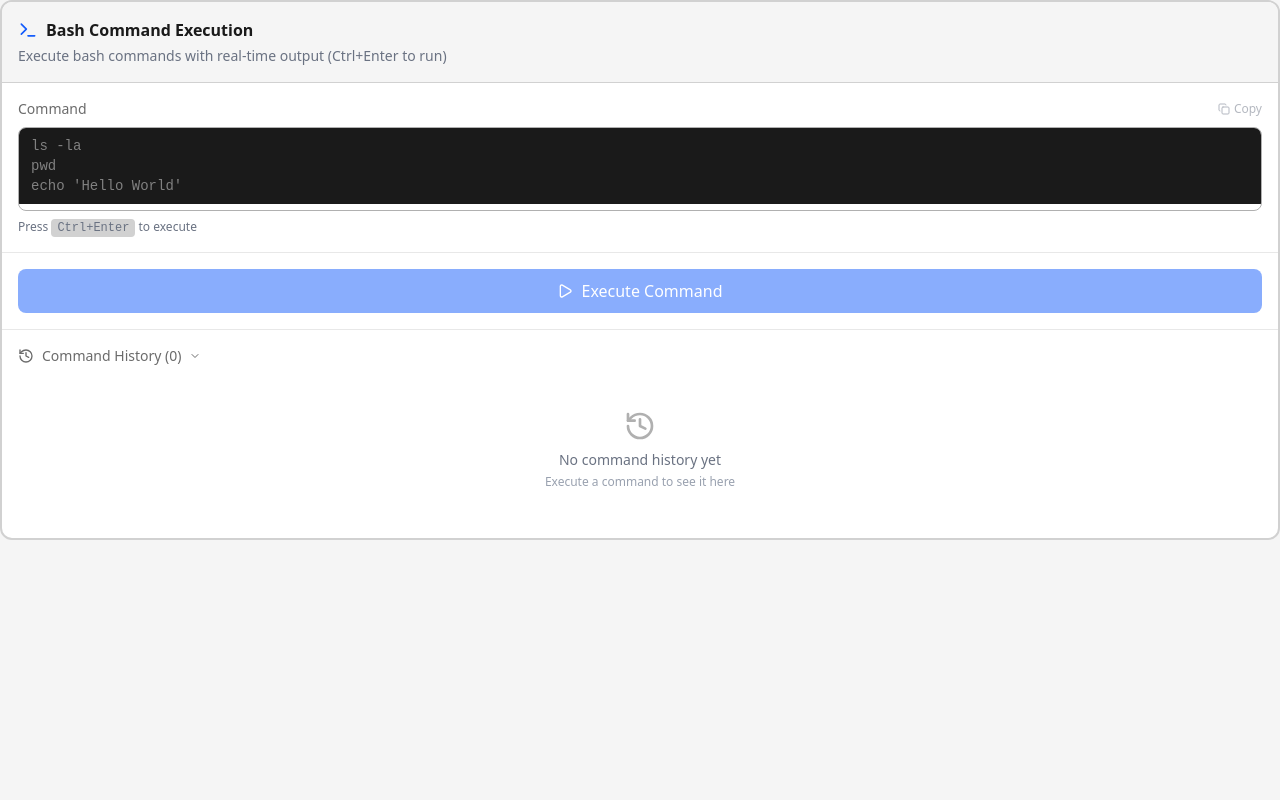
Test: BashToolExecutor › Command Execution › should handle API errors
In the text box with test id "bash-command-input": (640,166) [19,128,1261,204], type "test"
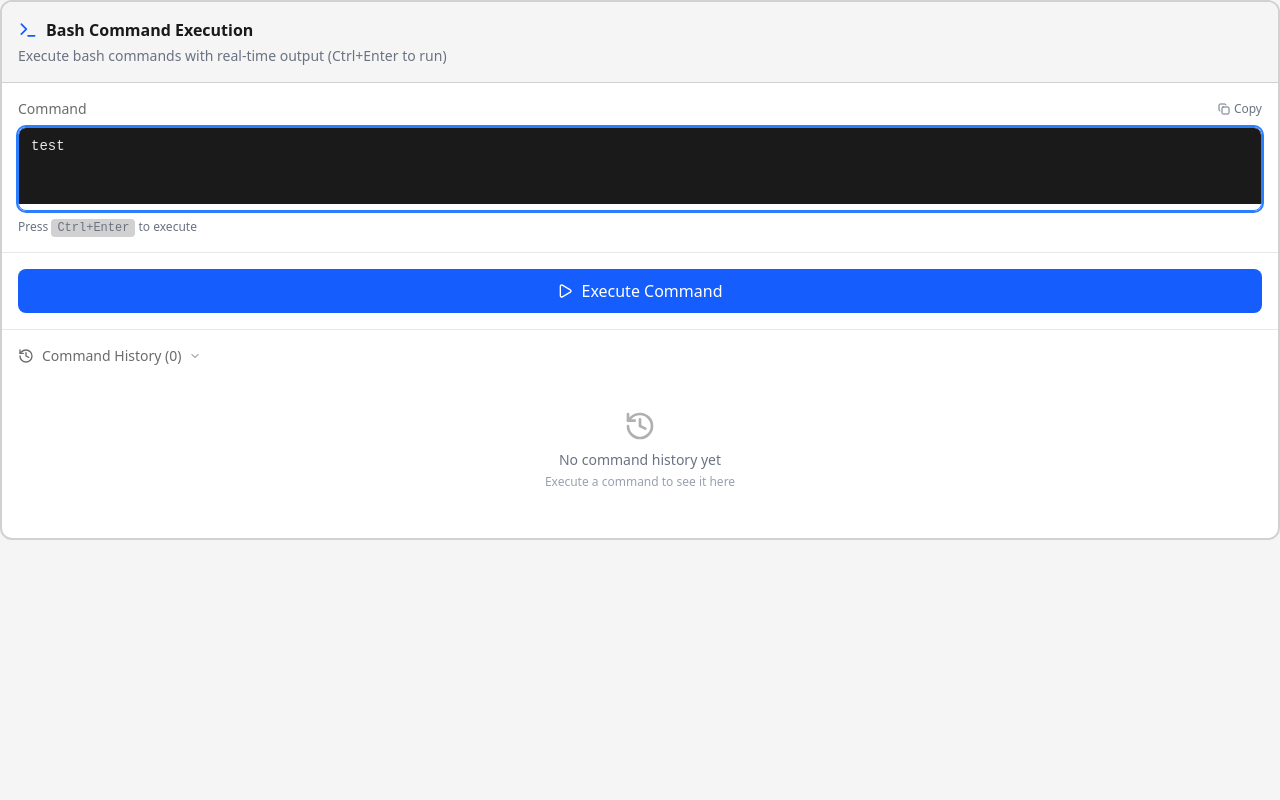
Click the button with test id "execute-bash-button": (640,291) [18,269,1262,313]
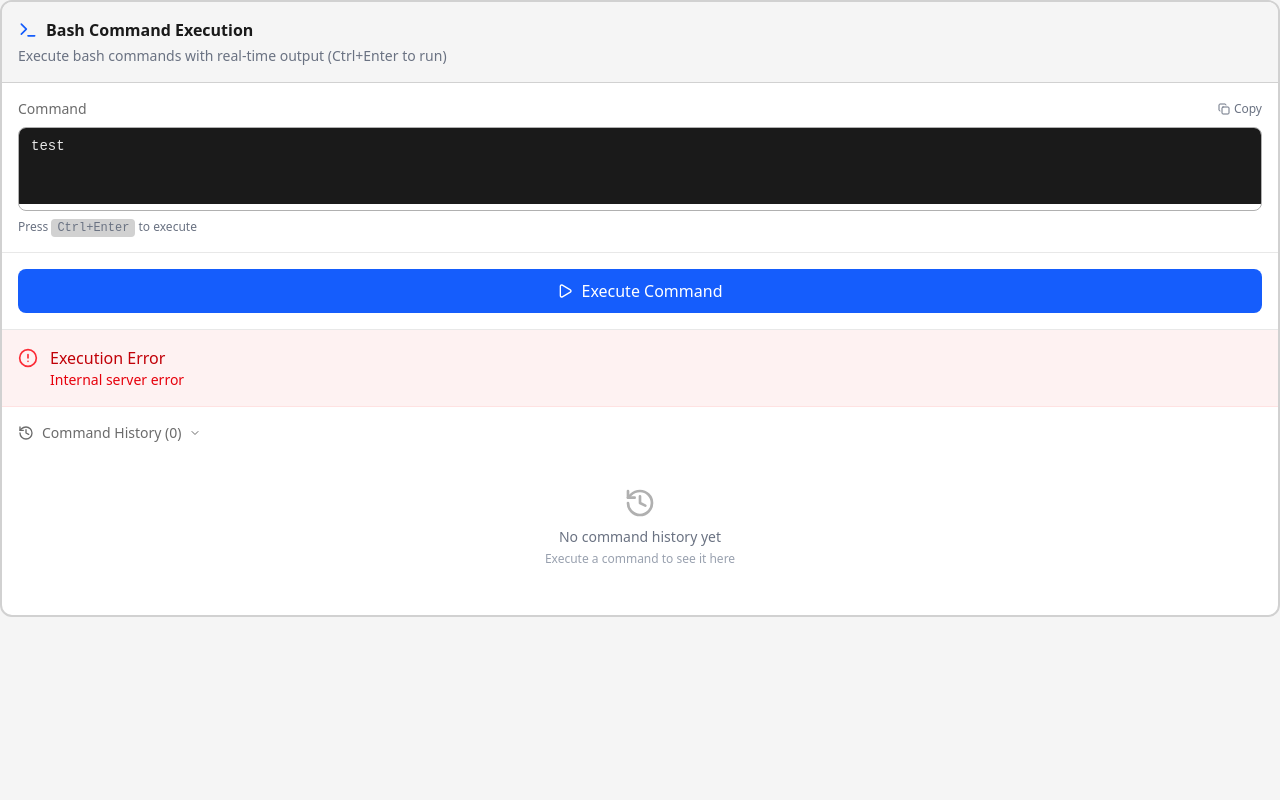
expect the element with test id "bash-execution-error" is shown: met, box [2,330,1278,407]
expect the text "Internal server error" is shown: met, box [50,370,184,390]
